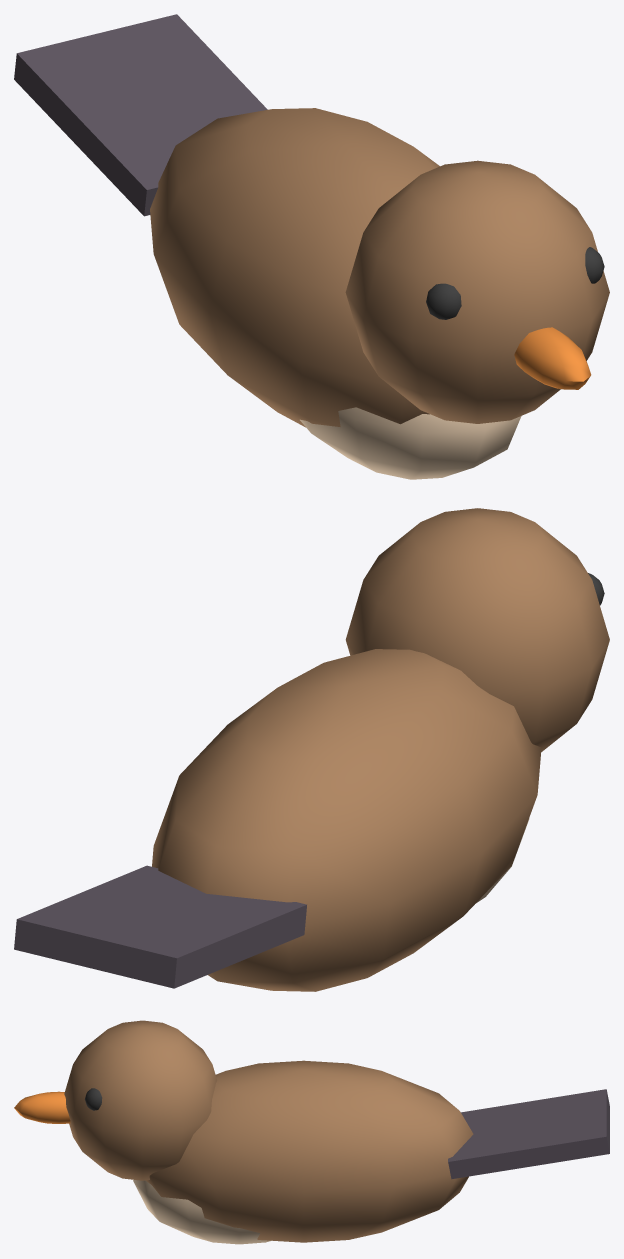
The model's file is bird_body_brown.glb.
3 renders of one model, top to bottom at view 1: azimuth 30°, elevation 25°; view 2: azimuth 150°, elevation 25°; view 3: azimuth 270°, elevation 25°, orthographic. The views are drawn at different scales.
Parts seen in each view (by area): view 1: bird_body_brown; view 2: bird_body_brown; view 3: bird_body_brown.
Boxes of the visible parts, x1,y1,x2,y2 form: bird_body_brown: (14,14,609,479); bird_body_brown: (14,508,609,991); bird_body_brown: (14,1020,609,1244).
Size of the model in its own units: 0.119 by 0.1435 by 0.3703.
